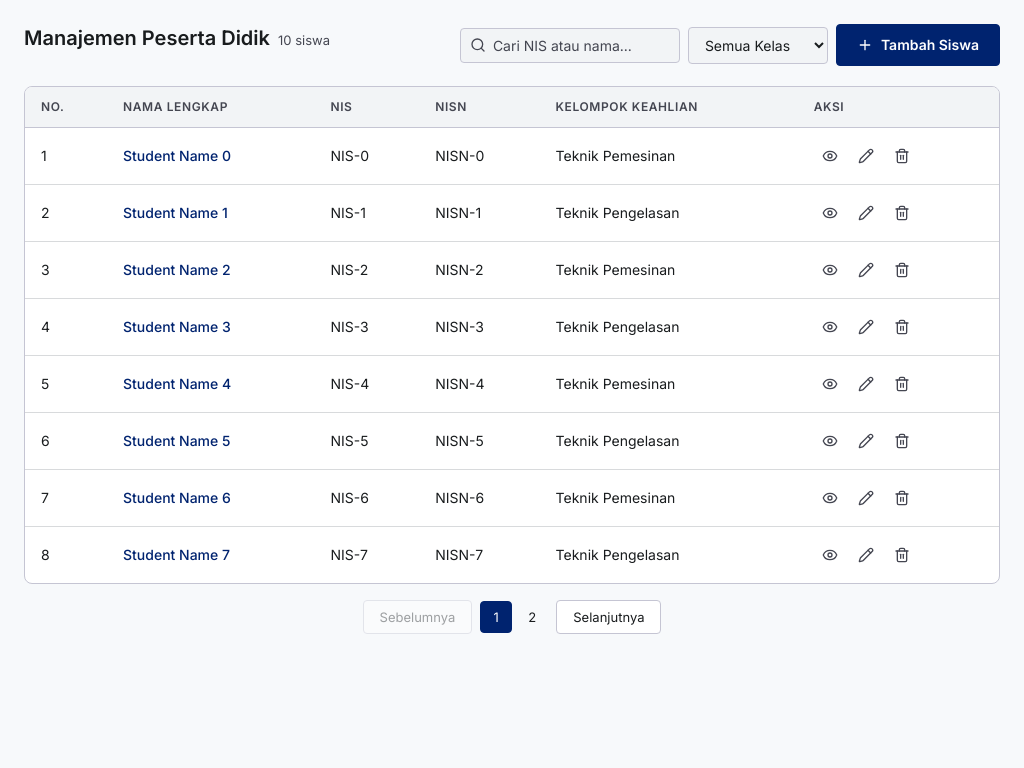
Scenario: Student List Page › handles search queries with no results correctly
Check: the link "Student Name 0" is shown, box [123, 147, 231, 164]
# Search by random query that yields 0 results
Type "XYZ" into the search field with placeholder "Cari NIS atau nama..." at (570,45), box [460, 28, 680, 62]
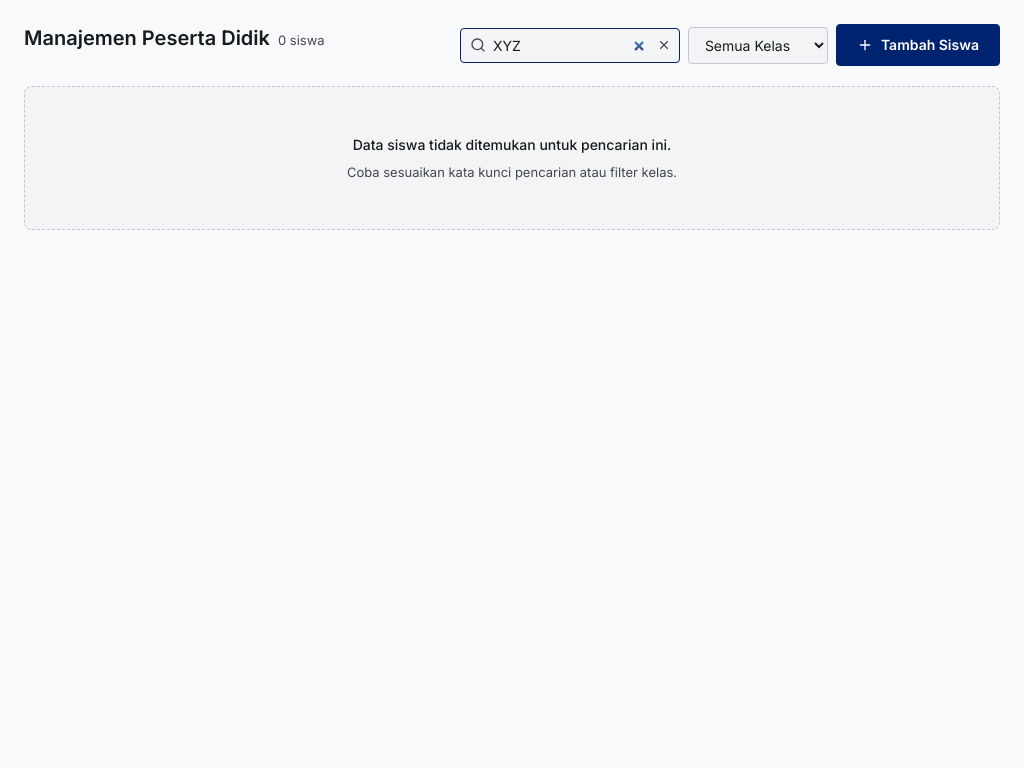
Check: the text "0 siswa" is shown, box [278, 31, 325, 49]
Check: the text "Data siswa tidak ditemukan untuk pencarian ini." is shown, box [353, 135, 671, 155]
Check: the text "Coba sesuaikan kata kunci pencarian atau filter kelas." is shown, box [347, 163, 677, 181]
